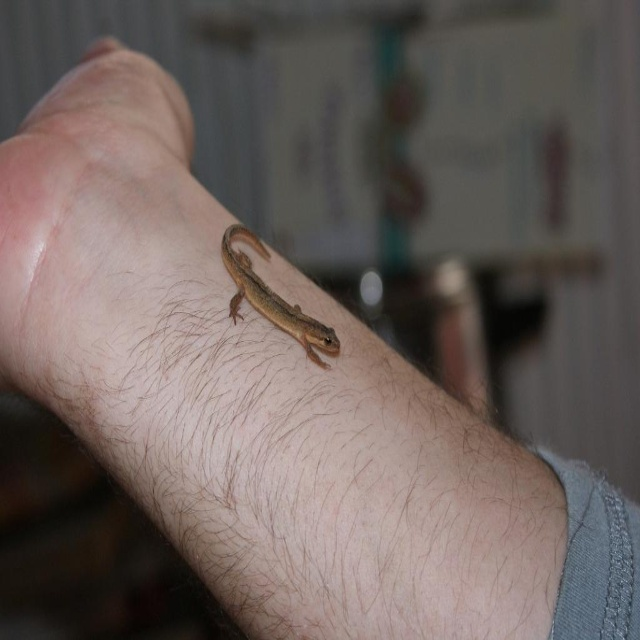Lizard: (206, 237, 345, 381)
